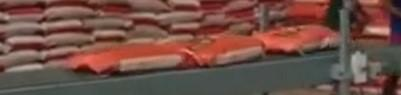rice-bag: (70, 44, 192, 72), (254, 25, 338, 52), (188, 35, 263, 65)
